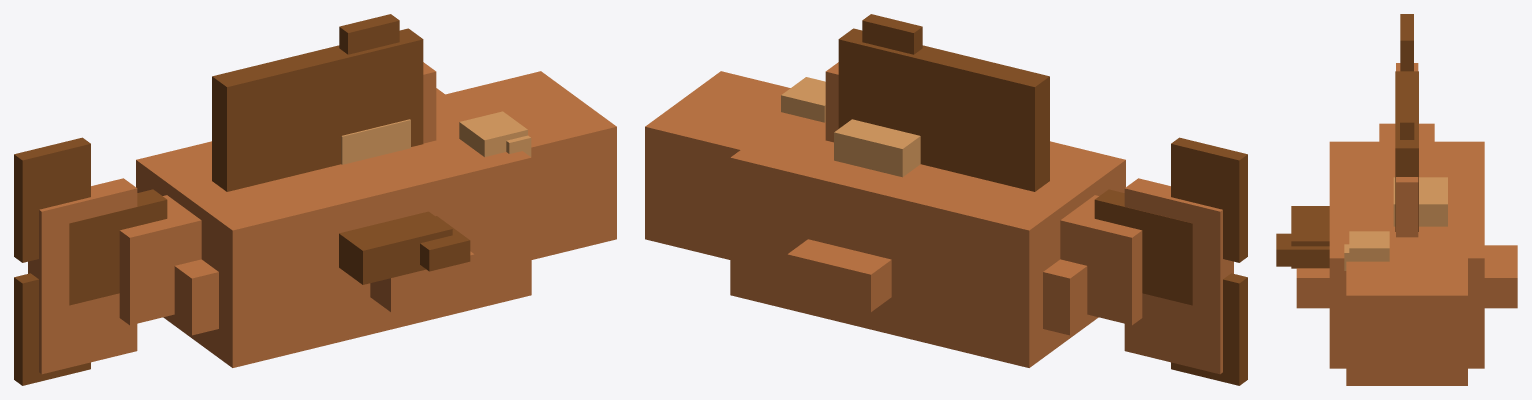
Rendered from fish_mangrove_snapper.glb.
The picture shows the model from 3 angles, left to right: view 1: azimuth 30°, elevation 25°; view 2: azimuth 150°, elevation 25°; view 3: azimuth 270°, elevation 25°; orthographic projection. The views are drawn at different scales.
Visible parts, largest first — view 1: FishArt_body, FishArt_dorsal, FishArt_tail, FishArt_pectoral, FishArt_eye, FishArt_specialty; view 2: FishArt_body, FishArt_dorsal, FishArt_tail, FishArt_specialty, FishArt_eye; view 3: FishArt_body, FishArt_pectoral, FishArt_dorsal, FishArt_specialty, FishArt_eye, FishArt_tail.
Boxes of the visible parts, <box> form: FishArt_body: <box>28,62,616,374</box>; FishArt_dorsal: <box>212,14,423,191</box>; FishArt_tail: <box>14,137,167,385</box>; FishArt_pectoral: <box>339,211,470,284</box>; FishArt_eye: <box>459,111,531,156</box>; FishArt_specialty: <box>341,119,410,164</box>; FishArt_body: <box>645,62,1233,374</box>; FishArt_dorsal: <box>838,14,1049,191</box>; FishArt_tail: <box>1094,137,1247,385</box>; FishArt_specialty: <box>834,119,920,177</box>; FishArt_eye: <box>781,77,825,122</box>; FishArt_body: <box>1296,63,1517,385</box>; FishArt_pectoral: <box>1276,206,1329,268</box>; FishArt_dorsal: <box>1395,71,1418,231</box>; FishArt_specialty: <box>1393,177,1447,226</box>; FishArt_eye: <box>1344,231,1389,270</box>; FishArt_tail: <box>1400,14,1413,71</box>.
Bounding box in the file's own units: 0.3091 × 0.1442 × 0.1439.
